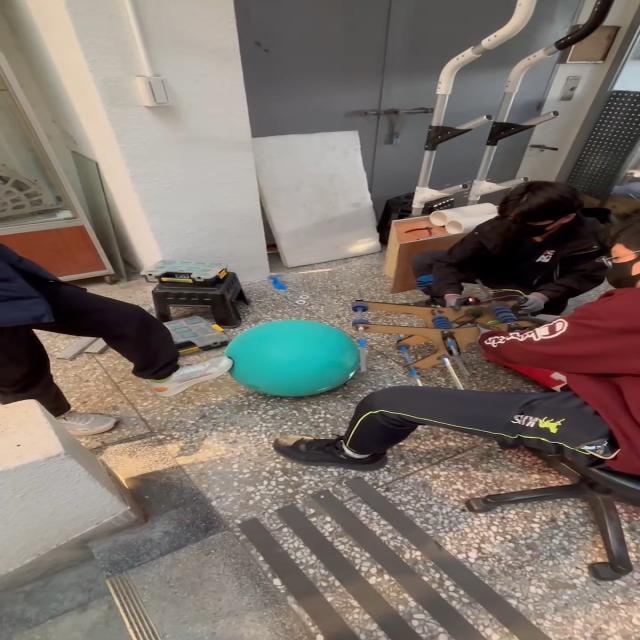ALGAE: (221, 318, 362, 398)
